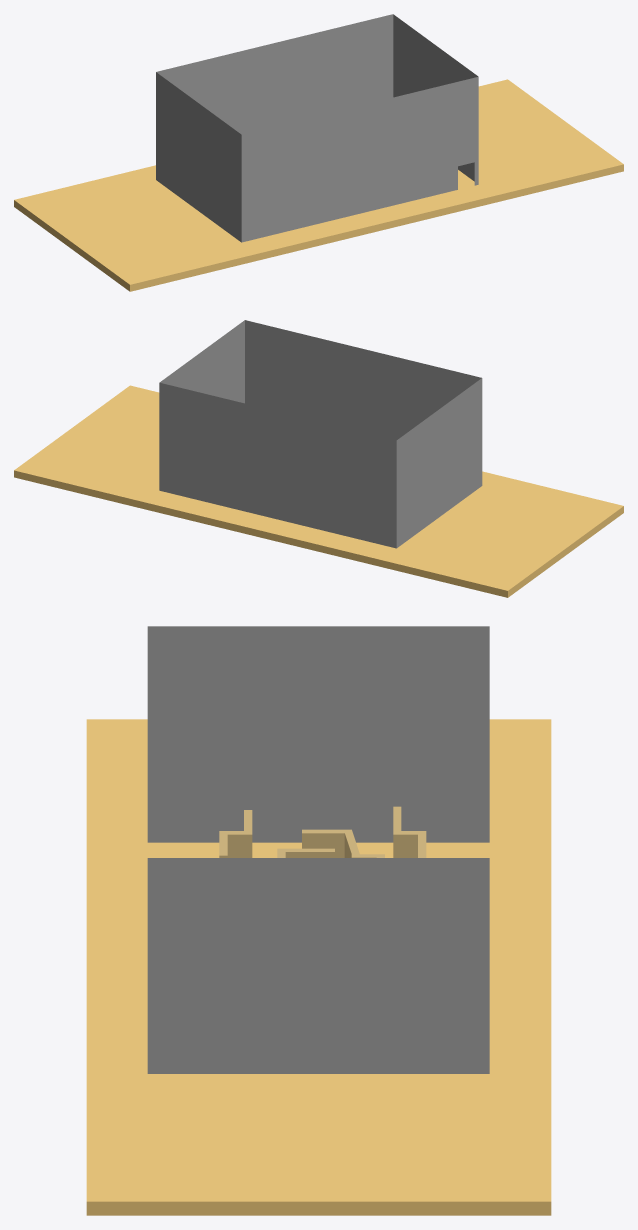
File: meiro.fbx
3 views of the same model, one above another, from view 1: azimuth 30°, elevation 25°; view 2: azimuth 150°, elevation 25°; view 3: azimuth 270°, elevation 25° (orthographic). The views are drawn at different scales.
Parts seen in each view (by area): view 1: piramiltuto1, nikainoyuka; view 2: piramiltuto1, nikainoyuka; view 3: piramiltuto1, nikainoyuka, meiro19, meiro21, meiro20.
Boxes of the visible parts, x1,y1,x2,y2 form: piramiltuto1: (156,14,478,242); nikainoyuka: (14,79,623,291); piramiltuto1: (159,320,482,548); nikainoyuka: (14,385,623,597); piramiltuto1: (147,626,489,1073); nikainoyuka: (86,719,551,1215); meiro19: (302,829,384,857); meiro21: (393,806,426,857); meiro20: (219,810,252,857).
Bounding box in the file's own units: 138 × 31.44 × 56.07.
